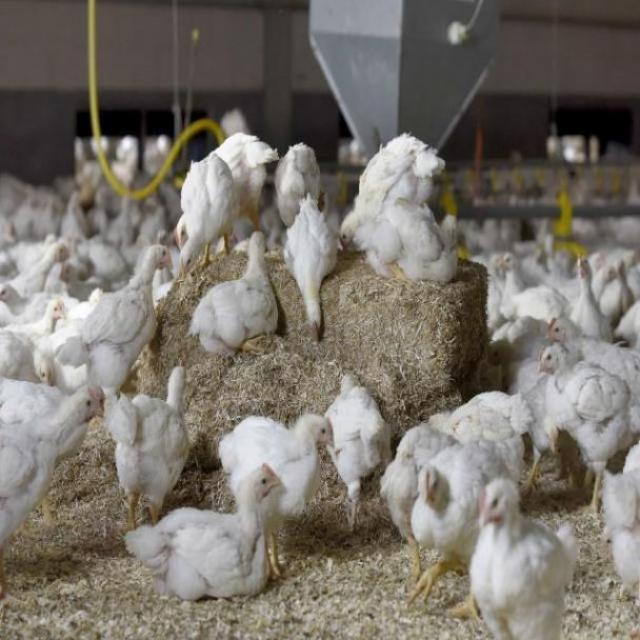Chicken: (109, 363, 189, 502), (88, 241, 175, 365), (198, 236, 278, 361), (283, 210, 342, 341), (171, 166, 238, 269), (471, 486, 514, 535), (237, 466, 279, 509), (416, 463, 449, 514), (301, 415, 334, 451), (572, 247, 597, 290), (492, 251, 523, 280), (538, 349, 566, 380), (541, 317, 570, 346)
